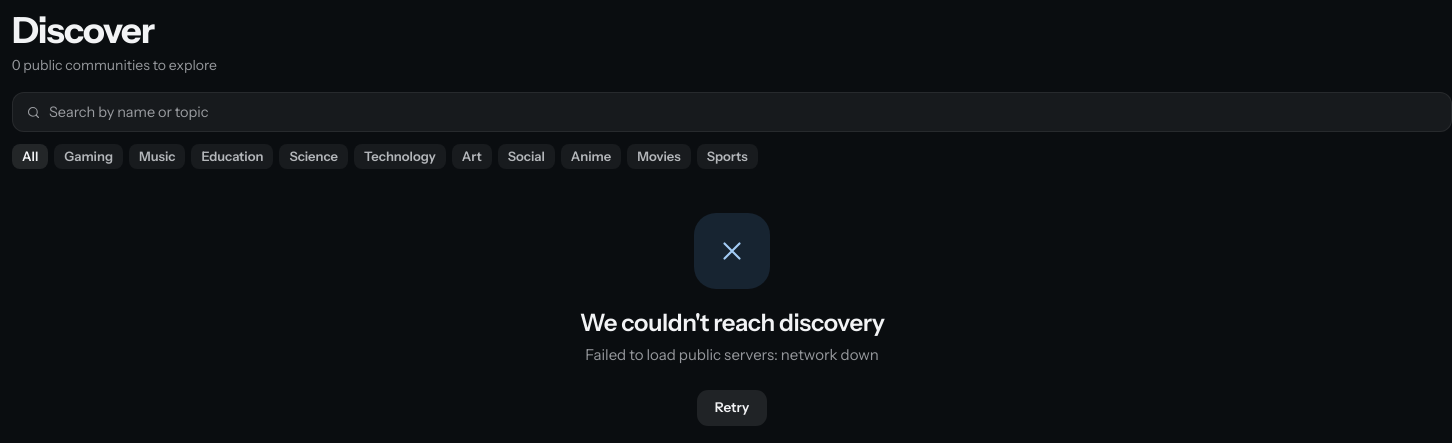
DiscoveryPage › shows a retryable load error instead of pretending discovery is empty
The width and height of the screenshot is (1452, 443).
Expected: the message shows "Failed to load public servers: network down", [585, 345, 879, 364]
Click the button "Retry": (732, 408) [697, 390, 767, 426]
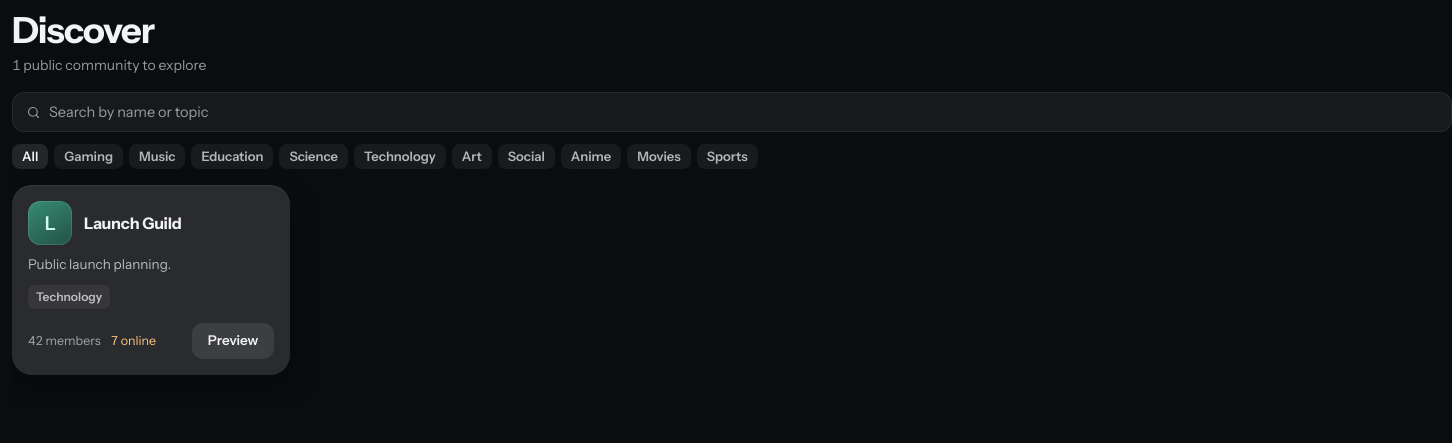
Result: the heading "Launch Guild" is shown at [84, 213, 182, 233]
